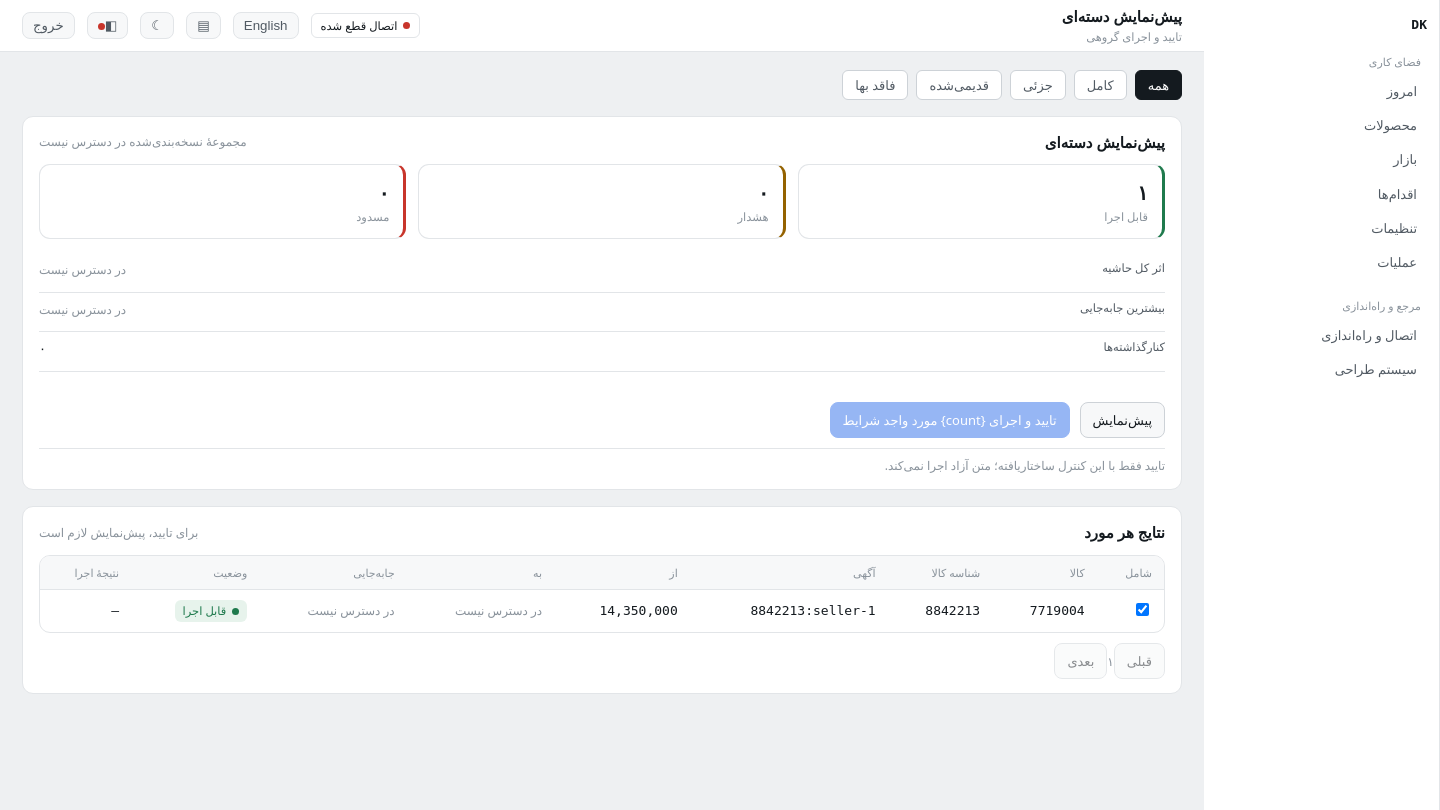
it: Bulk approval (journey 3 — SERVER-minted selection set, APR-001 at set level) › renders the SERVER's per-item results, not a client reconstruction
Click the button with test id "bulk-preview": [1122, 420] box 1080,402 -> 1165,438
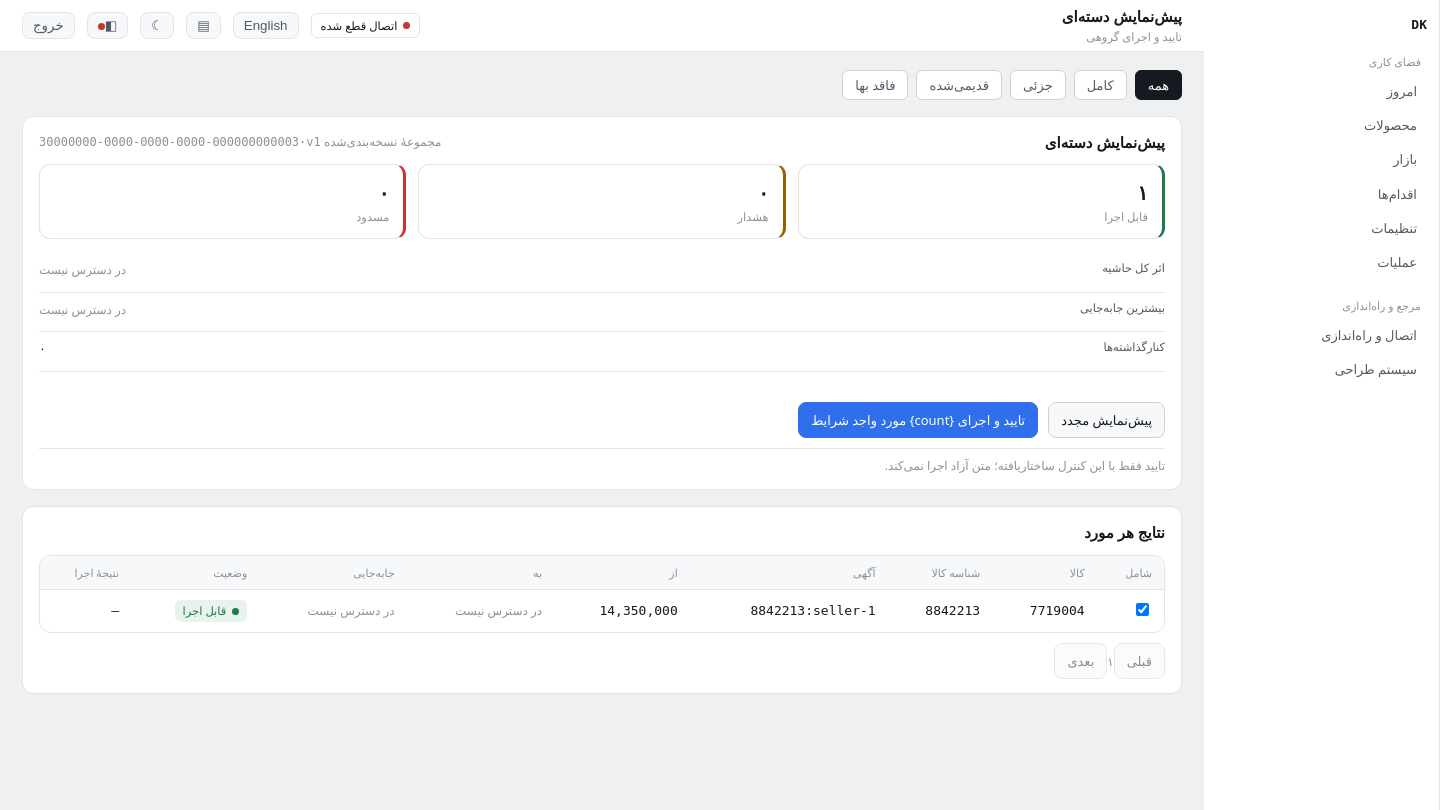
Now the button with test id "bulk-approve" is enabled
Click the button with test id "bulk-approve": [918, 420] box 798,402 -> 1038,438
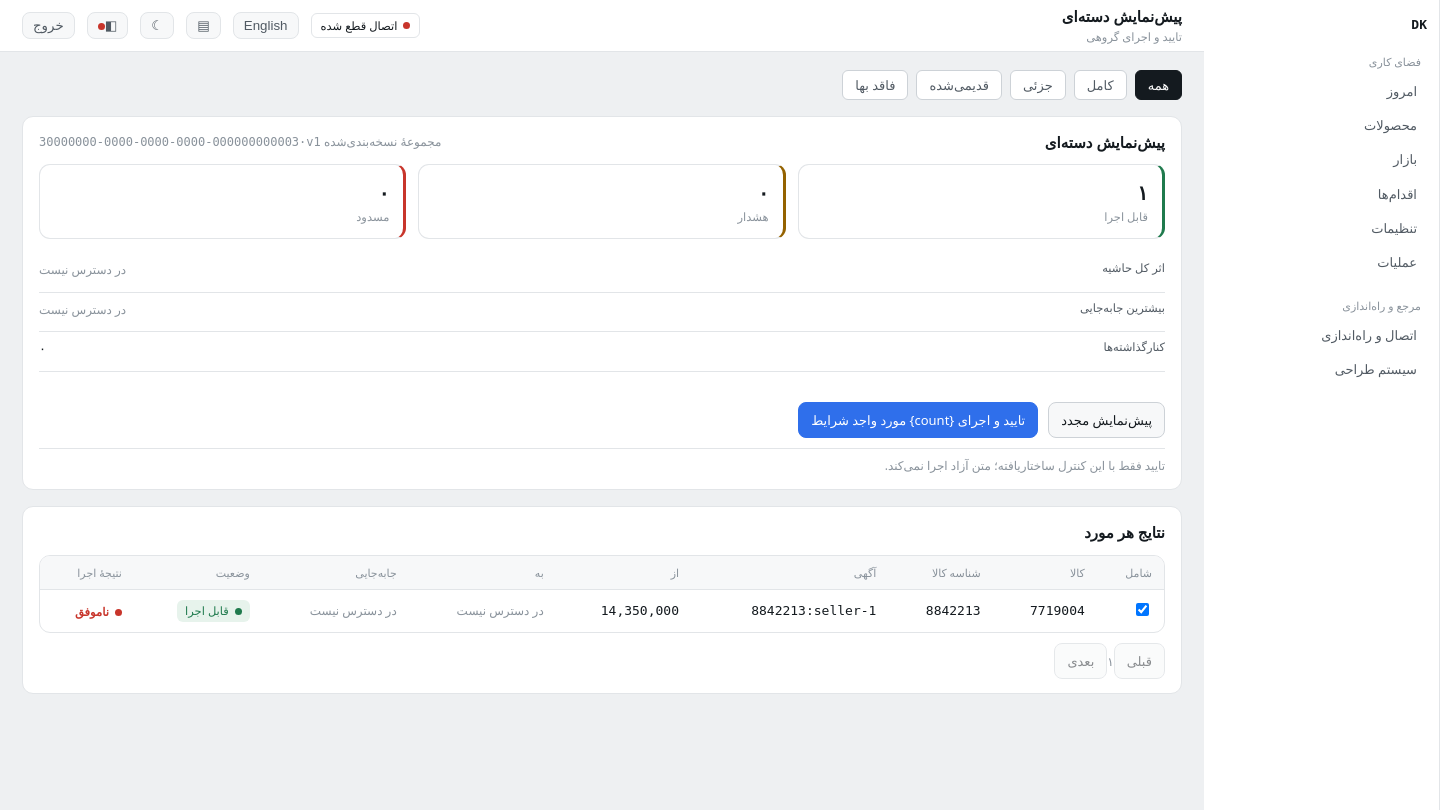
Now the element with test id "result-failed" reads "ناموفق", box 75,604 -> 109,619
